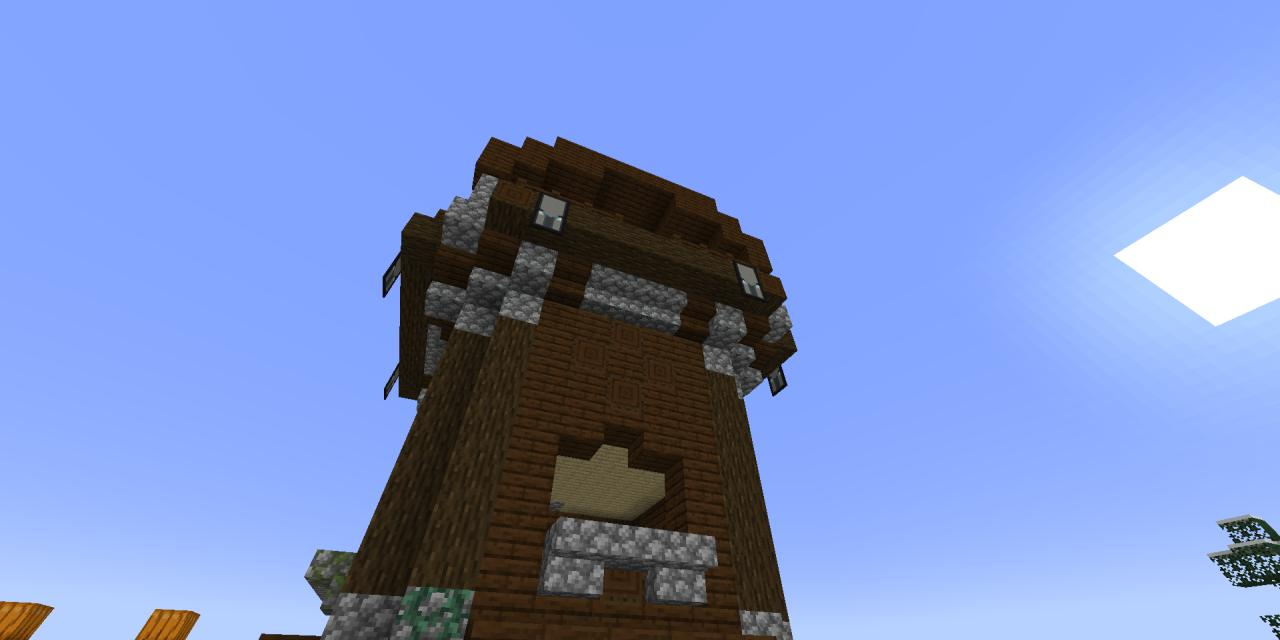pillager outpost: (294, 113, 807, 640)
